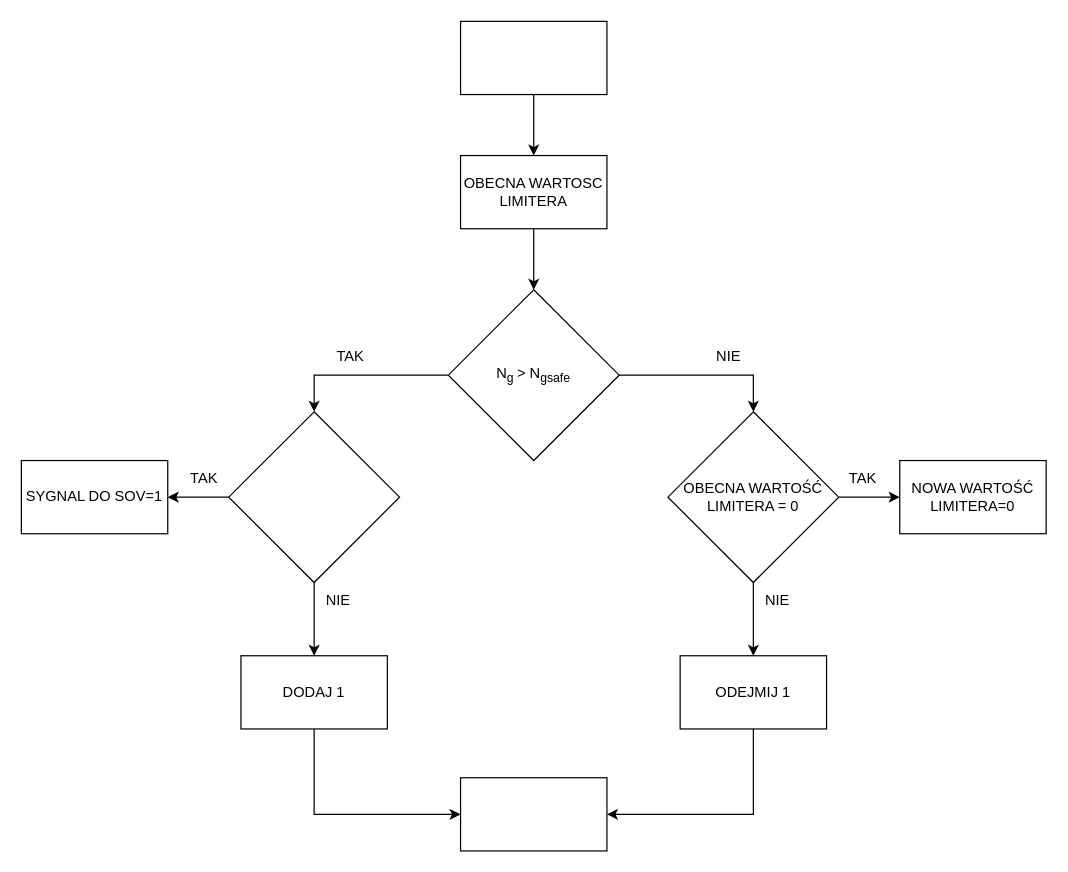
This 1068x872 diagram has some shape labels left out. The shapes that lost their labels are listed below. From the top down, each one's centre as x and y in pixels, then its label:
At [533,57]: "N g po kalibracji".
At [314,497]: "OBECNA WARTOŚĆ LIMITERA = 9".
At [533,814]: "NOWA WARTOŚĆ LIMITERA".
